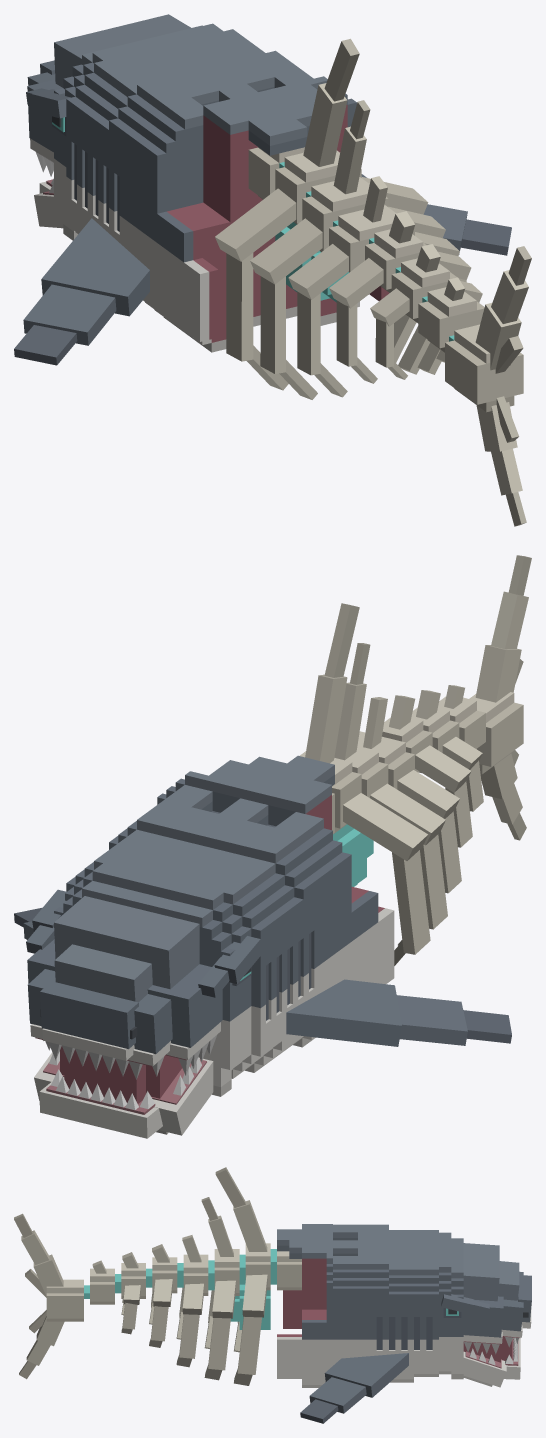
The model's file is HalfboneMegalodon.glb.
3 views of the same model, one above another, from view 1: azimuth 30°, elevation 25°; view 2: azimuth 150°, elevation 25°; view 3: azimuth 270°, elevation 25° (orthographic). The views are drawn at different scales.
Parts seen in each view (by area): view 1: S1, S2, B2, B3, Tail, Head, B4, B1, Jaw; view 2: Head, S1, B2, S2, B3, Tail, Jaw, B4, B2_Glow; view 3: S1, S2, Head, B2, B3, Tail, B4, Jaw, B2_Glow, B1, B3_Glow.
Part boxes in pixels (x1,y1,x2,y2): S1: [14, 29, 511, 365]; S2: [135, 70, 389, 352]; B2: [215, 38, 445, 399]; B3: [288, 176, 471, 397]; Tail: [445, 246, 531, 526]; Head: [26, 14, 223, 240]; B4: [370, 244, 484, 379]; B1: [248, 147, 304, 199]; Jaw: [34, 178, 63, 228]; Head: [26, 863, 262, 1103]; S1: [14, 800, 511, 1078]; B2: [299, 603, 447, 965]; S2: [157, 755, 394, 1047]; B3: [357, 695, 472, 893]; Tail: [469, 555, 531, 840]; Jaw: [34, 1051, 213, 1138]; B4: [411, 685, 485, 811]; B2_Glow: [333, 824, 373, 886]; S1: [300, 1224, 438, 1423]; S2: [277, 1224, 357, 1387]; Head: [439, 1232, 531, 1379]; B2: [201, 1167, 270, 1385]; B3: [149, 1235, 208, 1367]; Tail: [14, 1213, 83, 1379]; B4: [90, 1252, 145, 1334]; Jaw: [463, 1337, 520, 1387]; B2_Glow: [230, 1249, 276, 1329]; B1: [277, 1251, 301, 1290]; B3_Glow: [177, 1260, 214, 1290].
Size of the model in its own units: 26.89 by 18.62 by 41.59.
